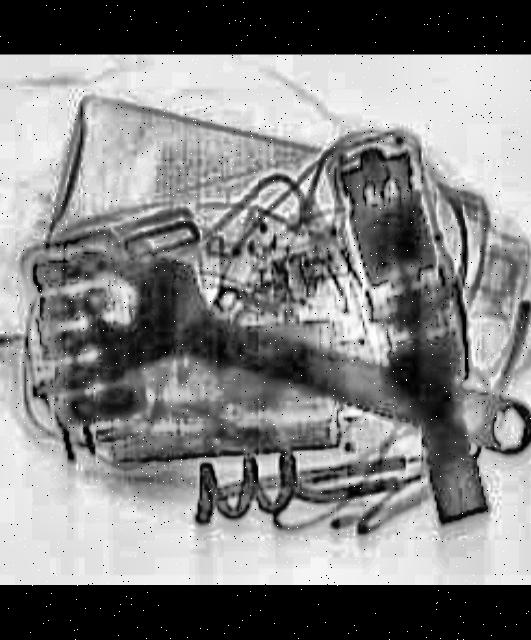Wrench: (65, 237, 531, 483)
